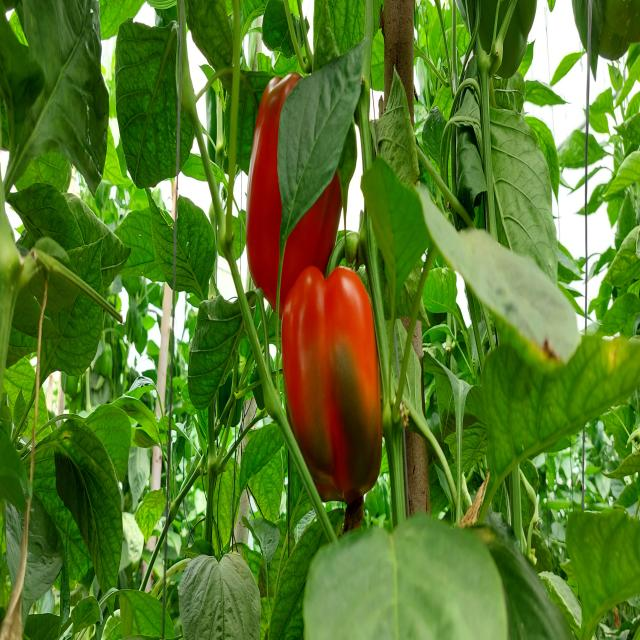Red-Ready-to-Harvest: (276, 280, 390, 503), (249, 55, 334, 314)
